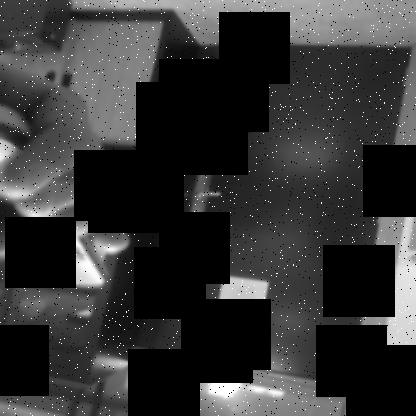Porte: (128, 40, 415, 407)
